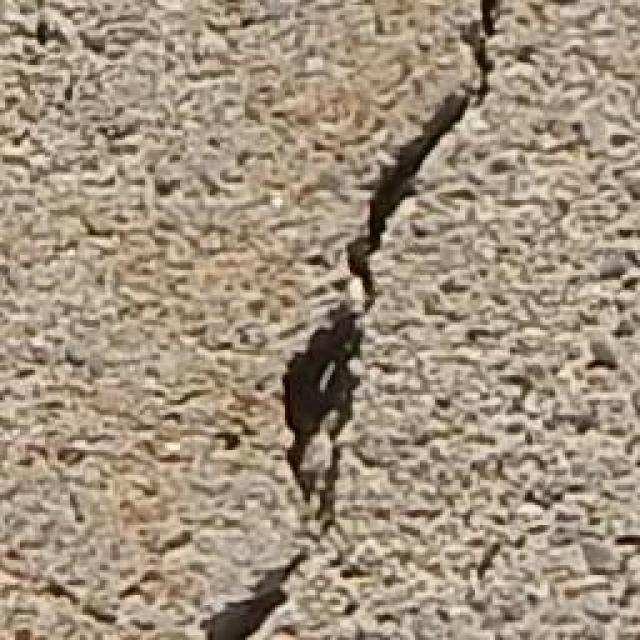concrete-crack: (189, 2, 505, 640)
